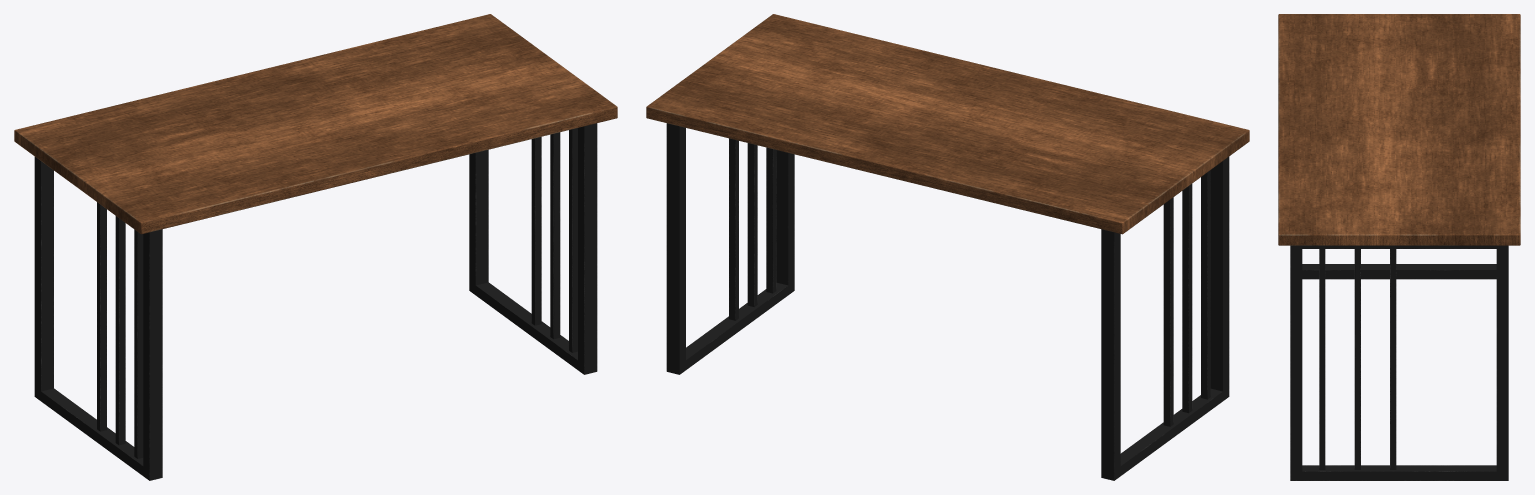
The model's file is modern_table.glb.
3 renders of one model, left to right at view 1: azimuth 30°, elevation 25°; view 2: azimuth 150°, elevation 25°; view 3: azimuth 270°, elevation 25°, orthographic. The views are drawn at different scales.
Visible parts, largest first — view 1: Cube; view 2: Cube; view 3: Cube.
Boxes of the visible parts, box(x1,y1,x2,y2) form: Cube: box(14, 14, 617, 480); Cube: box(646, 14, 1249, 480); Cube: box(1278, 14, 1520, 480).
Size of the model in its own units: 1.5 by 0.8019 by 0.6955.
1 material, 1 textured.
